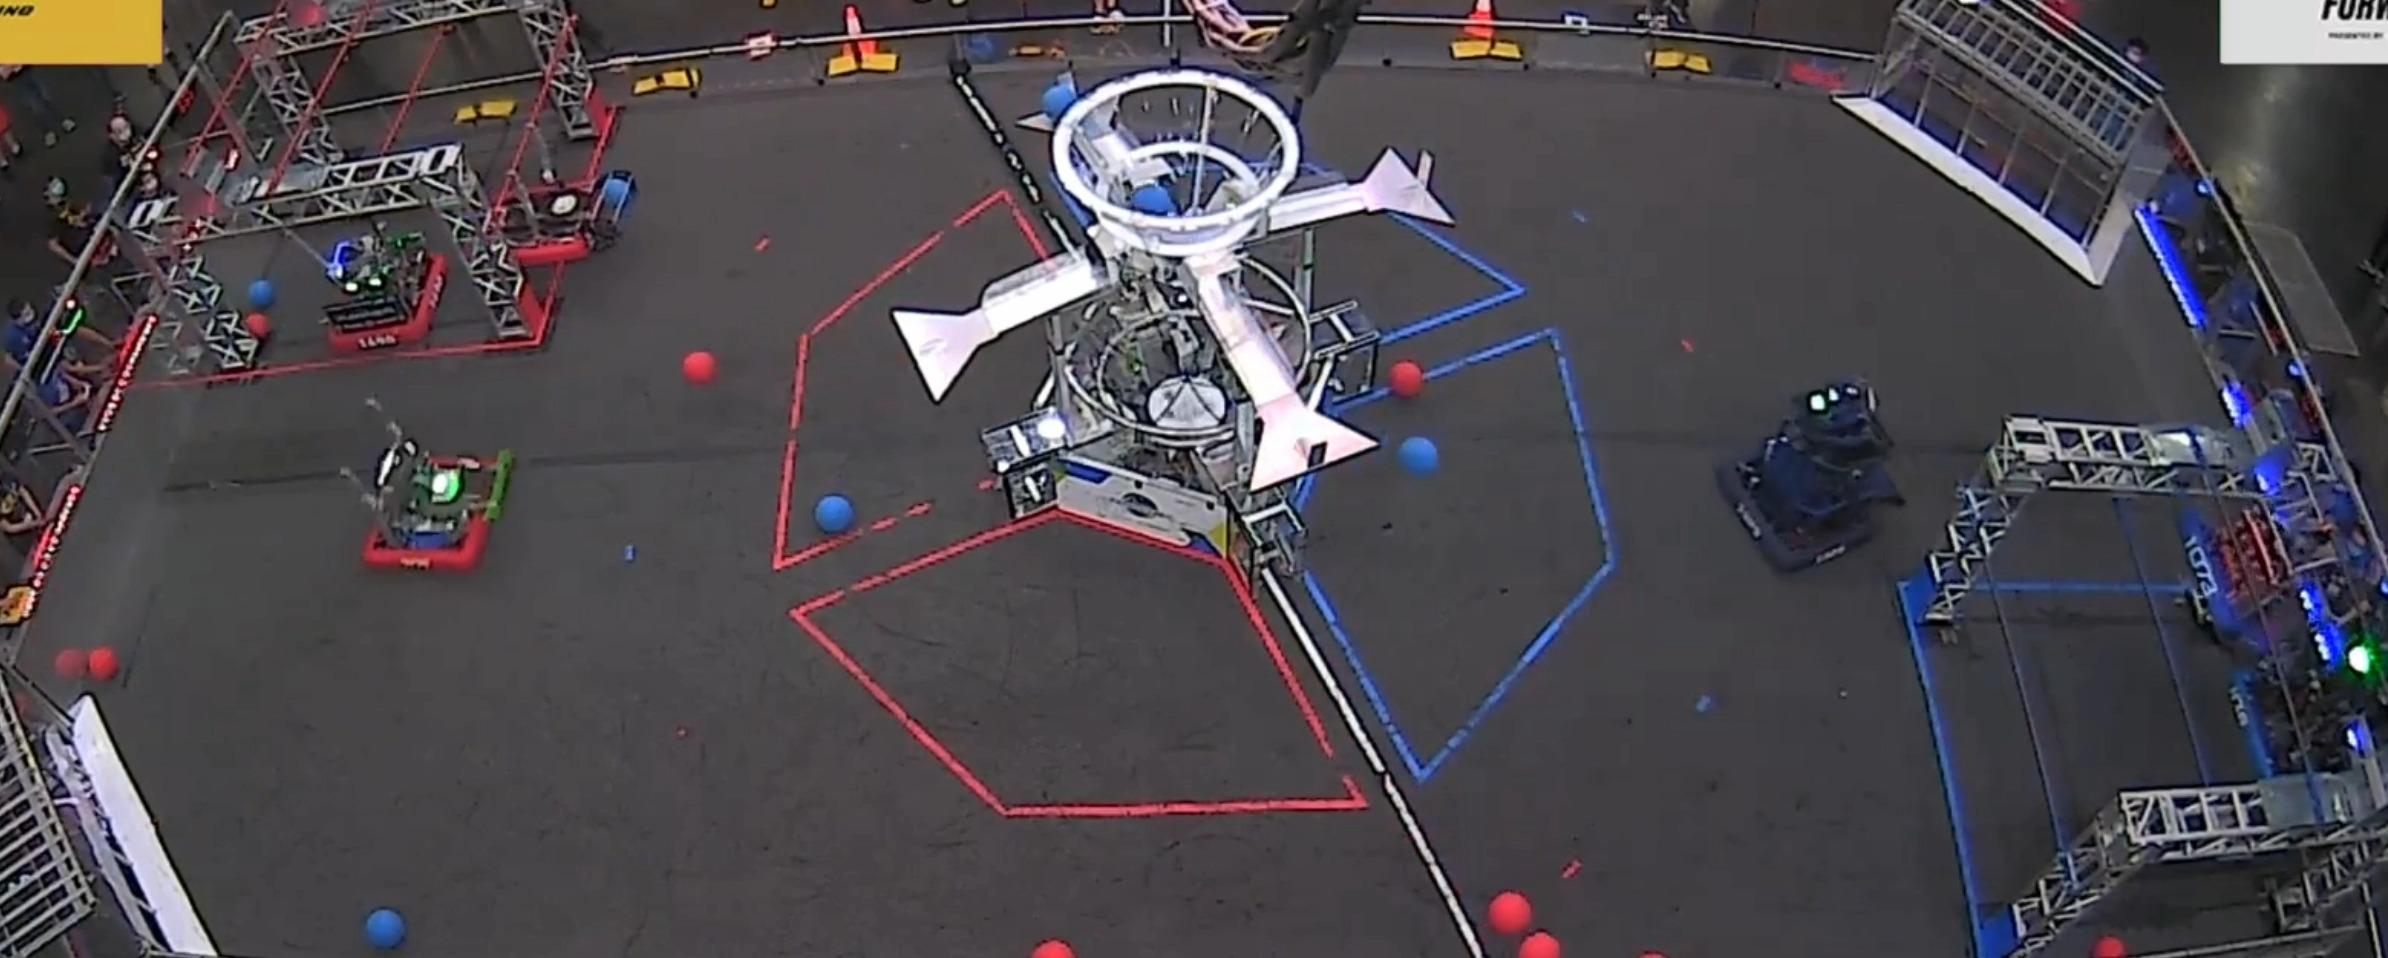Robots: (1716, 379, 1908, 573), (346, 404, 518, 573), (2193, 487, 2376, 626), (2225, 624, 2380, 769), (320, 238, 448, 352), (504, 174, 627, 265)
